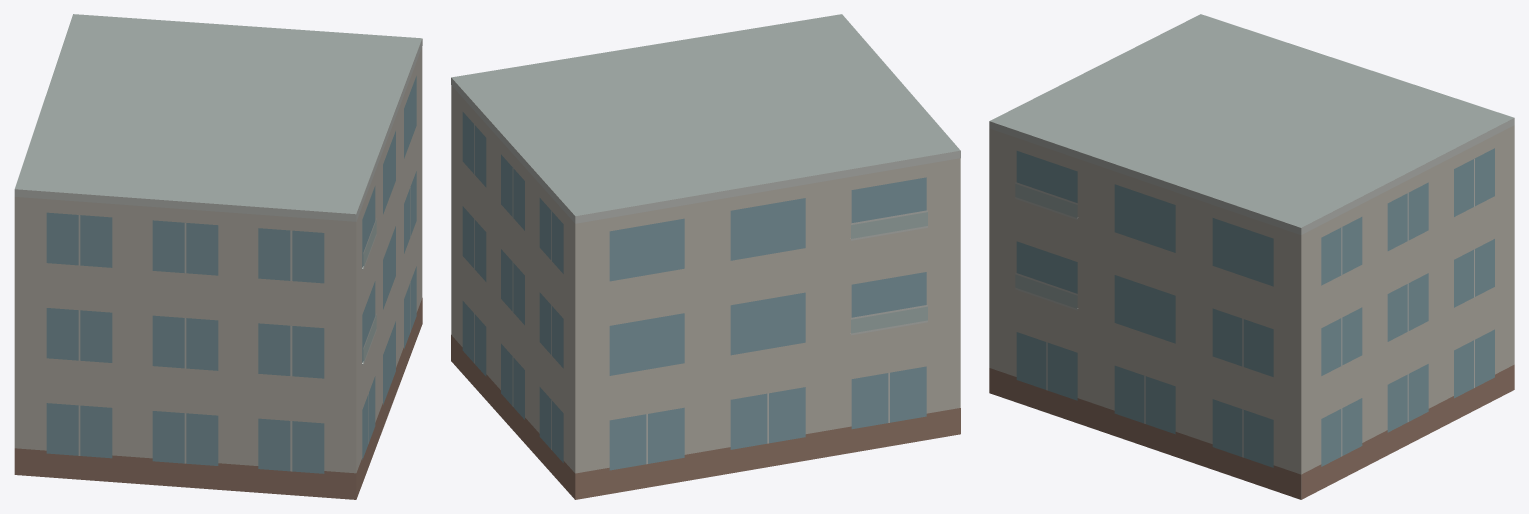
Rendered from survey-upis-32698666.glb.
3 views of the same model, side by side, from view 1: azimuth 30°, elevation 25°; view 2: azimuth 150°, elevation 25°; view 3: azimuth 270°, elevation 25° (orthographic). The views are drawn at different scales.
Visible parts, largest first — view 1: survey-upis-32698666.tmp; view 2: survey-upis-32698666.tmp; view 3: survey-upis-32698666.tmp.
Part boxes in pixels (x1,y1,x2,y2): survey-upis-32698666.tmp: (14,14,422,499); survey-upis-32698666.tmp: (451,14,960,499); survey-upis-32698666.tmp: (989,14,1514,499).
Size of the model in its own units: 15.45 by 9.15 by 16.03.
